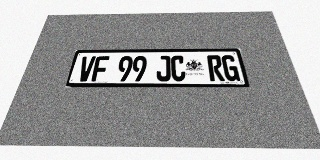9: (117, 56, 133, 81), (131, 56, 147, 81)
C: (171, 55, 186, 81)
F: (91, 56, 109, 81)
G: (221, 55, 240, 81)
J: (156, 56, 171, 81)
R: (207, 55, 225, 81)
V: (77, 56, 96, 81)
